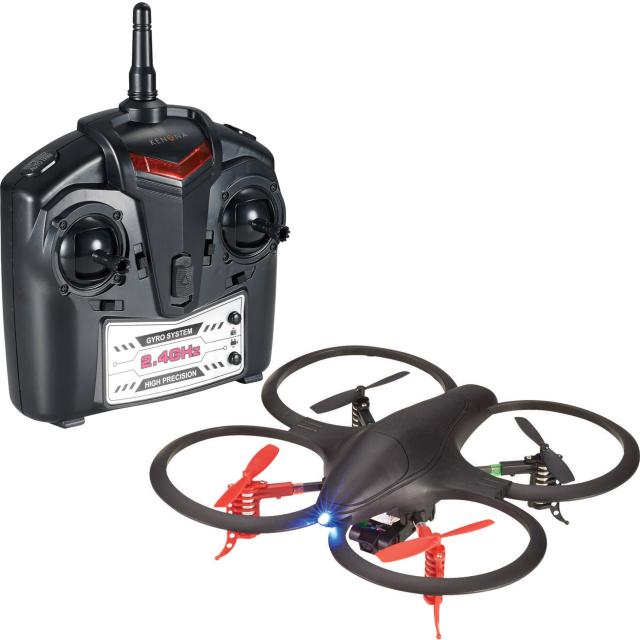drone: (145, 320, 640, 606)
